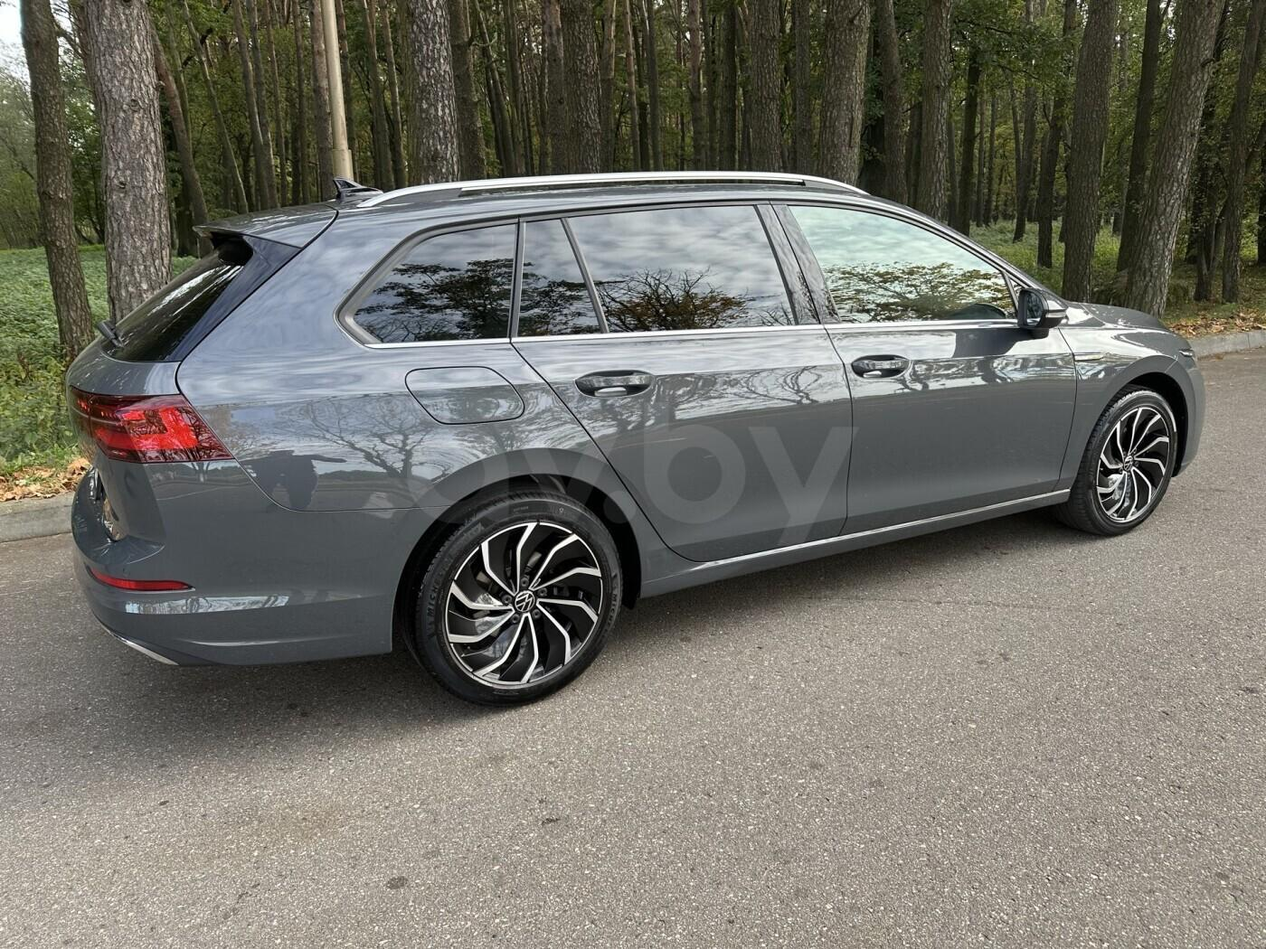Golf_2019: (49, 169, 1203, 706)
